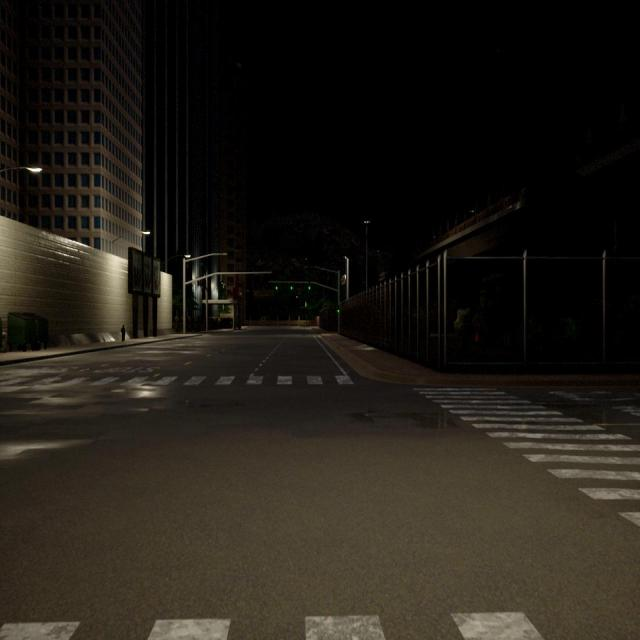Pedestrian: (120, 324, 126, 342)
traffic_light: (275, 282, 278, 291), (308, 282, 311, 290), (337, 306, 340, 314), (290, 283, 293, 290)
